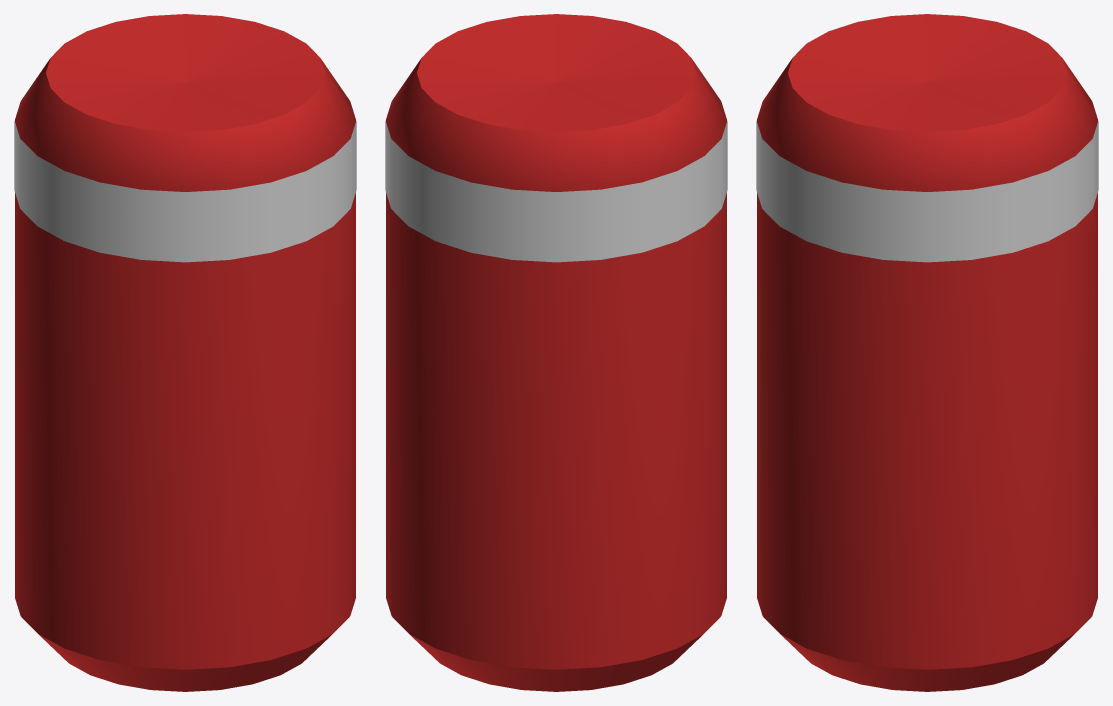
File: lon_nuoc.glb
3 renders of one model, left to right at view 1: azimuth 30°, elevation 25°; view 2: azimuth 150°, elevation 25°; view 3: azimuth 270°, elevation 25°, orthographic.
Parts seen in each view (by area): view 1: lon_nuoc; view 2: lon_nuoc; view 3: lon_nuoc.
Part boxes in pixels (left/top/right/bottom): lon_nuoc: left=14, top=14, right=356, bottom=691; lon_nuoc: left=385, top=14, right=727, bottom=691; lon_nuoc: left=756, top=14, right=1098, bottom=691.
Size of the model in its own units: 0.0662 by 0.12 by 0.0662.
